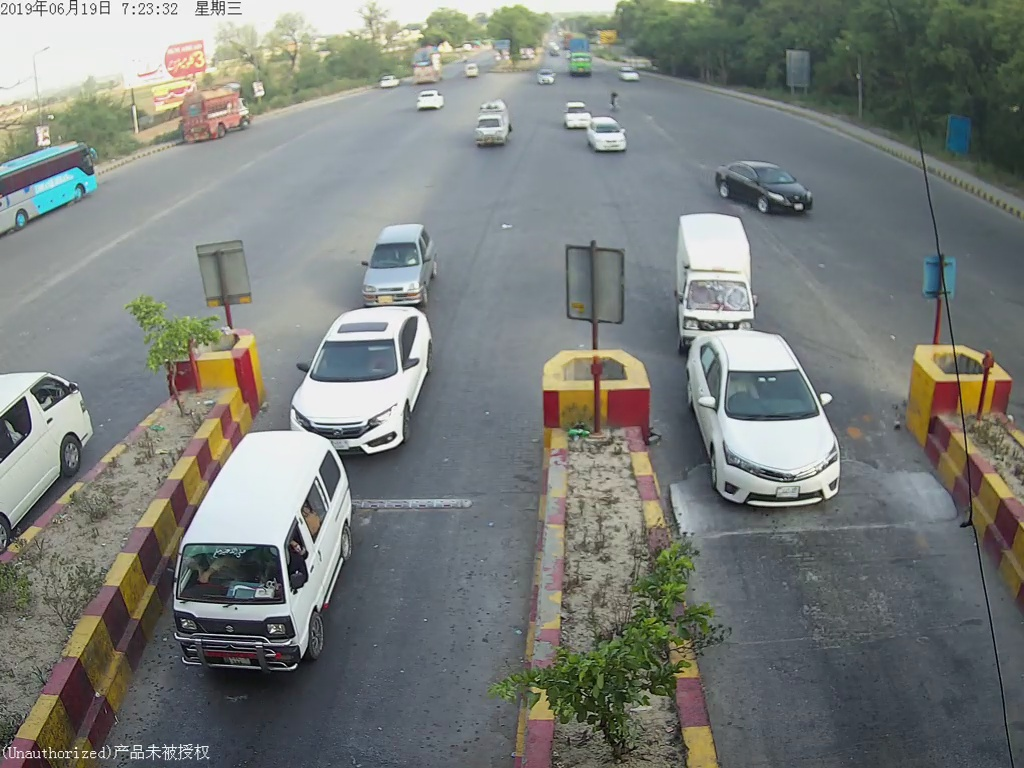Cat-1: (164, 429, 364, 684), (689, 329, 853, 509), (286, 304, 440, 447), (667, 214, 764, 333), (353, 224, 436, 303)
